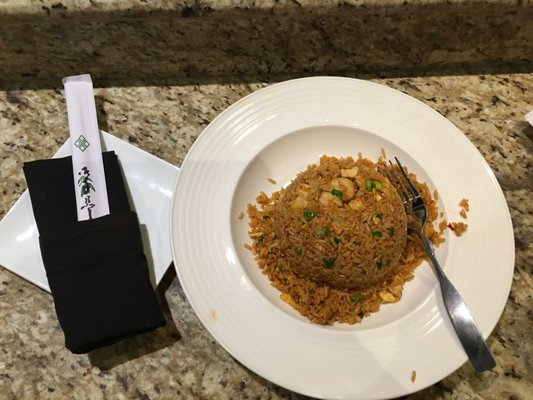burger: (377, 157, 496, 374)
